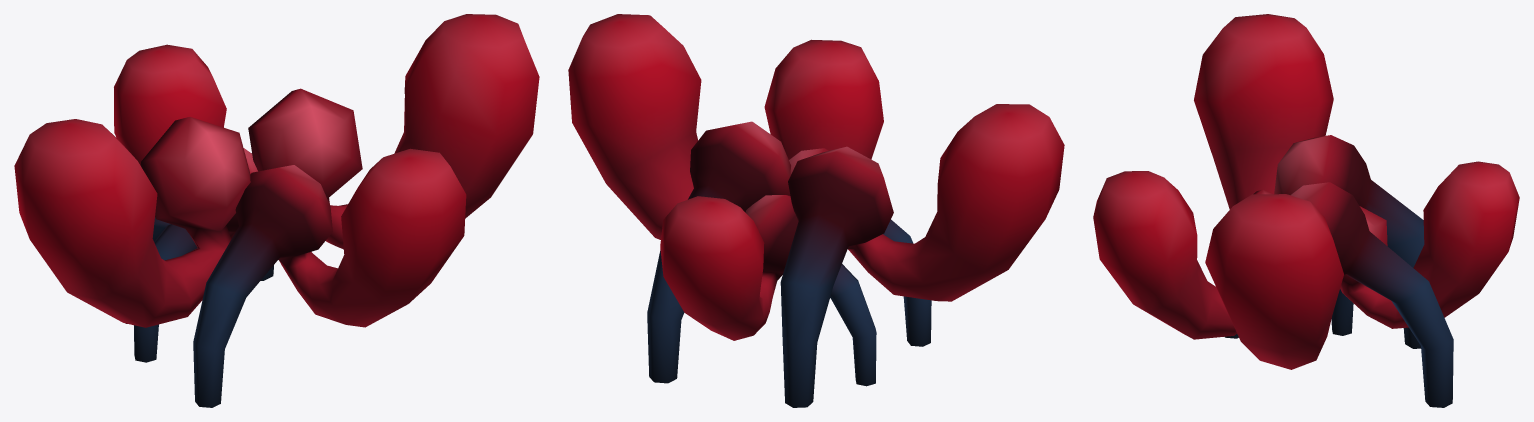
File: Alien_Bush03.fbx
3 renders of one model, left to right at view 1: azimuth 30°, elevation 25°; view 2: azimuth 150°, elevation 25°; view 3: azimuth 270°, elevation 25°, orthographic. The views are drawn at different scales.
Parts seen in each view (by area): view 1: Alien_Bush03; view 2: Alien_Bush03; view 3: Alien_Bush03.
Part boxes in pixels (left/top/right/bottom): Alien_Bush03: left=14, top=14, right=539, bottom=407; Alien_Bush03: left=568, top=14, right=1064, bottom=407; Alien_Bush03: left=1093, top=14, right=1519, bottom=407.
Bounding box in the file's own units: 3845 × 2110 × 3067.
